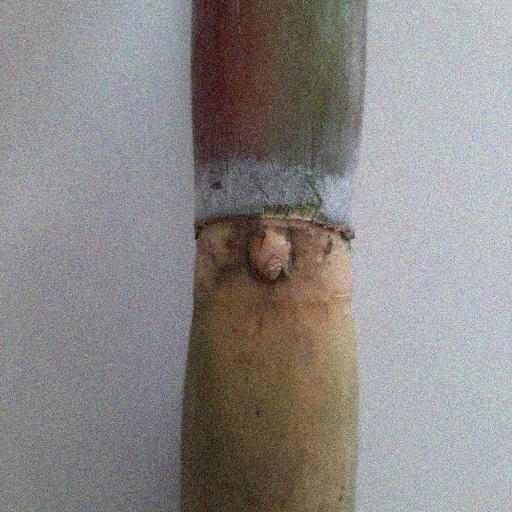Bud: (245, 225, 295, 281)
